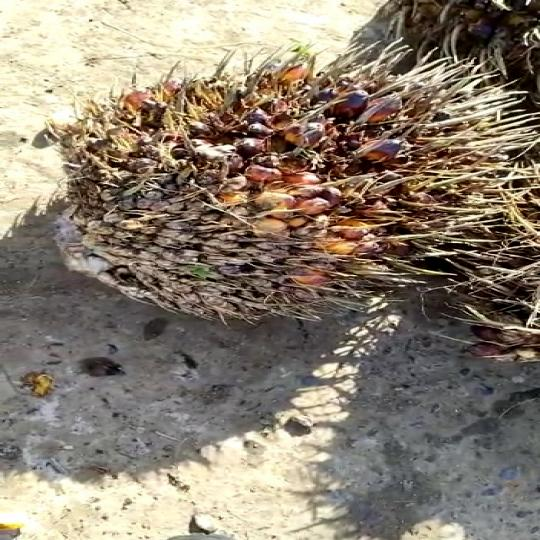terlalu masak: (4, 29, 540, 345)
